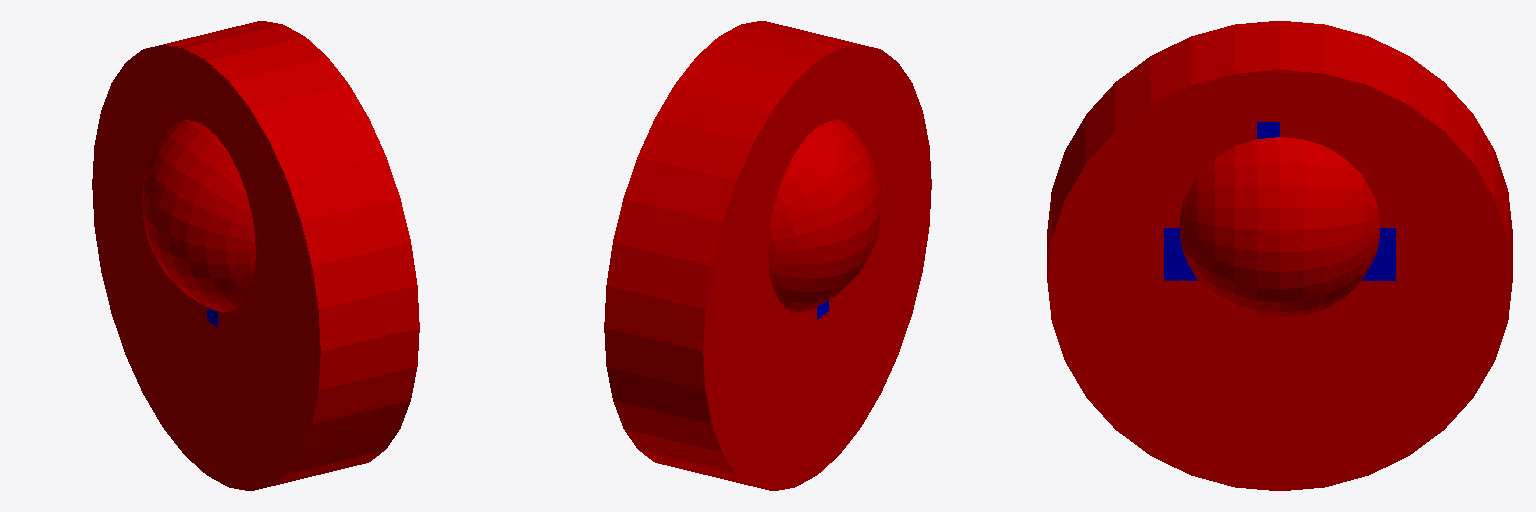
URDF robot description (TwoLinkStruct6944751738):
<?xml version="1.0"?>
<robot  name="TwoLinkStruct6944751738" >
 <material  name="blue" >
  <color  rgba="0 0 0.8 1.0" />
 </material>
 <material  name="red" >
  <color  rgba="0.8 0 0 1.0" />
 </material>
 <link  name="base_link" >
  <visual >
   <origin  rpy="0 1.5707 0"  xyz="0 0 0" />
   <material  name="red" />
   <geometry >
    <cylinder  length="0.05"  radius="0.1" />
   </geometry>
  </visual>
 </link>
 <joint  type="revolute"  name="joint1" >
  <parent  link="base_link" />
  <child  link="link1" />
  <origin  xyz="0 0 0"  rpy="0 0 0" />
  <axis  xyz="1 0 0" />
 </joint>
 <link  name="link1" >
  <inertial >
   <origin  rpy="0 0 0"  xyz="0 0 0.012514301822886903" />
   <mass  value="0.03301226588747132" />
   <inertia  ixy="0.0"  iyy="1.3755110786446384e-05"  izz="8.600880955493954e-06"  ixz="0.0"  ixx="8.600880955493954e-06"  iyz="0.0" />
  </inertial>
  <visual >
   <origin  rpy="0 0 0"  xyz="0 0 0.012514301822886903" />
   <material  name="blue" />
   <geometry >
    <box  size="0.05 0.1 0.025028603645773806" />
   </geometry>
  </visual>
 </link>
 <joint  type="fixed"  name="joint-joint-1" >
  <parent  link="link1" />
  <child  link="joint-link-1" />
  <origin  xyz="0 0 0.025028603645773806"  rpy="1.5707 0 0" />
  <axis  xyz="1 0 0" />
 </joint>
 <link  name="joint-link-1" >
  <inertial >
   <origin  rpy="0 0 0"  xyz="0 0 0" />
   <mass  value="5.0" />
   <inertia  ixy="0"  iyy="0"  izz="0"  ixz="0"  ixx="0"  iyz="0" />
  </inertial>
  <visual >
   <origin  rpy="0 0 0"  xyz="0 0 0" />
   <material  name="red" />
   <geometry >
    <sphere  radius="0.05" />
   </geometry>
  </visual>
 </link>
 <joint  type="revolute"  name="joint2" >
  <parent  link="link1" />
  <child  link="link2" />
  <origin  xyz="0 0 0.025028603645773806"  rpy="1.5707 0 0" />
  <axis  xyz="1 0 0" />
 </joint>
 <link  name="link2" >
  <inertial >
   <origin  rpy="0 0 0"  xyz="0 0 0.005" />
   <mass  value="0.014053564071655273" />
   <inertia  ixy="0.0"  iyy="1.3755110786446384e-05"  izz="7.152657608952119e-06"  ixz="0.0"  ixx="7.152657608952119e-06"  iyz="0.0" />
  </inertial>
  <visual >
   <origin  rpy="0 0 0"  xyz="0 0 0.005" />
   <material  name="blue" />
   <geometry >
    <box  size="0.05 0.1 0.01" />
   </geometry>
  </visual>
 </link>
 <joint  type="fixed"  name="eef_joint" >
  <parent  link="link2" />
  <child  link="eef" />
  <origin  xyz="0 0 0.01"  rpy="0 0 0" />
 </joint>
 <link  name="eef" >
  <inertial >
   <origin  rpy="0 0 0"  xyz="0 0 0" />
   <mass  value="1" />
   <inertia  ixy="0"  iyy="0"  izz="0"  ixz="0"  ixx="0"  iyz="0" />
  </inertial>
 </link>
 <transmission  name="motor1" >
  <type  xmltext="SimpleTransmission" >
   SimpleTransmission
  </type>
  <actuator  name="motor1" >
   <mechanicalreduction  xmltext="1" >
    1
   </mechanicalreduction>
  </actuator>
  <joint  name="joint1" />
 </transmission>
 <transmission  name="motor2" >
  <type  xmltext="SimpleTransmission" >
   SimpleTransmission
  </type>
  <actuator  name="motor2" >
   <mechanicalreduction  xmltext="1" >
    1
   </mechanicalreduction>
  </actuator>
  <joint  name="joint2" />
 </transmission>
</robot>

<!-- {'carti': array([-0.1 ,  0.14,  0.85]), 'cartd': array([-0.1 ,  0.32,  1.29]), 'tau_mu': 0.0, 'b0': 1.0, 'Km': 5.0, 'k_velocity': 100.0, 'tau_max_m': 0.001, 'omega_max_m': 1482.0868666425922, 'gear_ratio': 9.14196829547106, 'Kp': 33.65488781450665, 'Kd': 84.44151282198865, 'm_m': 5.0, 'l1': 0.025028603645773806, 'l2': 0.01, 'k1': 0.0, 'k2': 0.0, 'k3': 0.0}-->

--- What the picture shows (computed from the rendered views, not written in the file) ---
3 views of the same robot in one strip: view 1: azimuth 30°, elevation 25°; view 2: azimuth 150°, elevation 25°; view 3: azimuth 270°, elevation 25° (orthographic).
Model TwoLinkStruct6944751738 with 5 links and 4 joints (2 revolute, 2 fixed), rooted at base_link, posed every joint at zero.
Visible links, largest first — view 1: base_link, joint-link-1; view 2: base_link, joint-link-1; view 3: base_link, joint-link-1, link1.
Link boxes in pixels (x1,y1,x2,y2): base_link: (92, 21, 419, 490); joint-link-1: (142, 120, 255, 312); base_link: (604, 21, 931, 490); joint-link-1: (768, 120, 881, 312); base_link: (1047, 21, 1512, 490); joint-link-1: (1180, 137, 1379, 318); link1: (1164, 228, 1395, 280).
Size in the robot's own frame: 0.1 by 0.2 by 0.2 metres.
Geometry: primitives only (box / cylinder / sphere), no mesh files.
